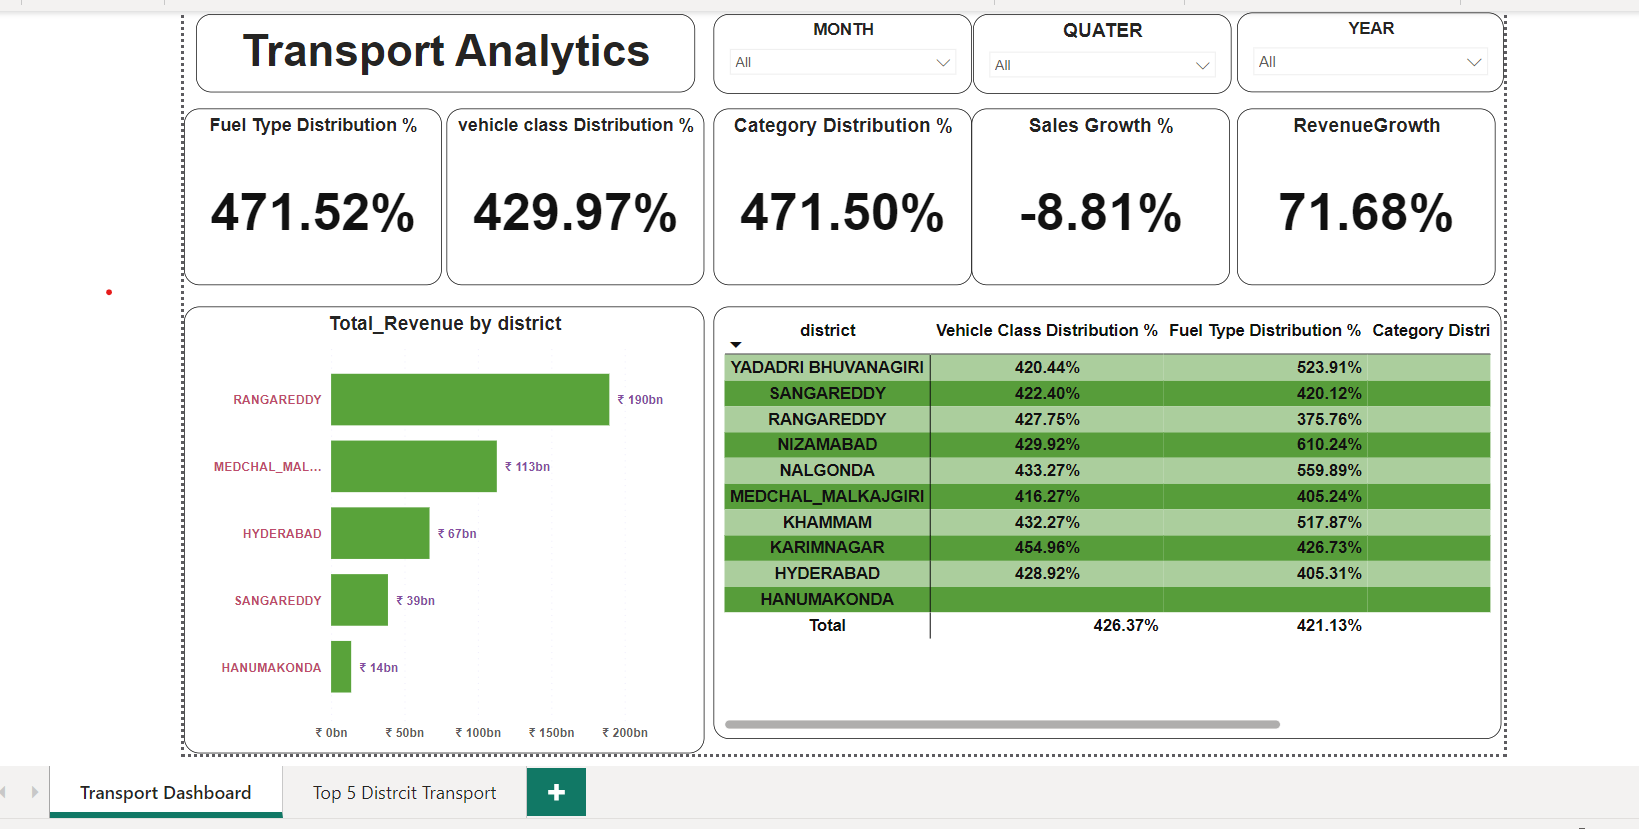

This screenshot's page, from the dashboard's own definition file:
{"tool":"powerbi","page":{"name":"Transport Dashboard","canvas":[1280,720],"ordinal":0},"visuals":[{"type":"cardVisual","title":"Fuel Type Distribution %","fields":{"Data":["Key_Measures.Fuel type Distribution %"]},"box":[0,93.8,250,171.5],"z":1000},{"type":"cardVisual","title":"Category Distribution %","fields":{"Data":["Key_Measures.Category Distribution %"]},"box":[512.9,93.8,250.8,171.5],"z":2000},{"type":"cardVisual","title":"Sales Growth %","fields":{"Data":["Key_Measures.Sales Growth %"]},"box":[763.7,93.8,250.8,171.5],"z":3000},{"type":"cardVisual","title":"vehicle class Distribution %","fields":{"Data":["Key_Measures.Vehicle Class Distribution %"]},"box":[254,93.8,250,171.5],"z":4000},{"type":"cardVisual","title":"RevenueGrowth","fields":{"Data":["Key_Measures.RevenueGrowth"]},"box":[1020.9,93.8,250.8,171.5],"z":5000},{"type":"slicer","title":"YEAR","fields":{"Values":["dim_date.fiscal_year"]},"box":[1020.9,1.6,258.9,77.7],"z":6000},{"type":"pivotTable","fields":{"Values":["Key_Measures.Vehicle Class Distribution %","Key_Measures.Fuel type Distribution %","Key_Measures.Category Distribution %","Key_Measures.RevenueGrowth"],"Rows":["dim_districts.district"]},"box":[512.9,286.4,763.7,419.1],"z":7000},{"type":"slicer","title":"QUATER","fields":{"Values":["dim_date.quarter"]},"box":[765.3,3.2,250.8,77.7],"z":7003},{"type":"slicer","title":"MONTH","fields":{"Values":["dim_date.month.Variation.Date Hierarchy.Month"]},"box":[512.9,3.2,250.8,77.7],"z":7004},{"type":"textbox","box":[11.3,3.2,483.8,76],"z":7005},{"type":"clusteredBarChart","fields":{"Category":["dim_districts.district"],"Y":["Key_Measures.Total_Revenue"]},"box":[0,286.4,504.8,433.6],"z":7006}]}

Visuals, with their boxes on the page's 1280x720 design canvas (x1, y1, x2, y2). These are canvas units, not pixel positions in the 1639x829 screenshot, which may show the page scaled, cropped or inside an application window:
"Fuel Type Distribution %" cardVisual: box=[0, 94, 250, 265]
"Category Distribution %" cardVisual: box=[513, 94, 764, 265]
"Sales Growth %" cardVisual: box=[764, 94, 1014, 265]
"vehicle class Distribution %" cardVisual: box=[254, 94, 504, 265]
"RevenueGrowth" cardVisual: box=[1021, 94, 1272, 265]
"YEAR" slicer: box=[1021, 2, 1280, 79]
pivotTable - Key_Measures.Vehicle Class Distribution % x Key_Measures.Fuel type Distribution %: box=[513, 286, 1277, 706]
"QUATER" slicer: box=[765, 3, 1016, 81]
"MONTH" slicer: box=[513, 3, 764, 81]
textbox: box=[11, 3, 495, 79]
clusteredBarChart - dim_districts.district x Key_Measures.Total_Revenue: box=[0, 286, 505, 720]
